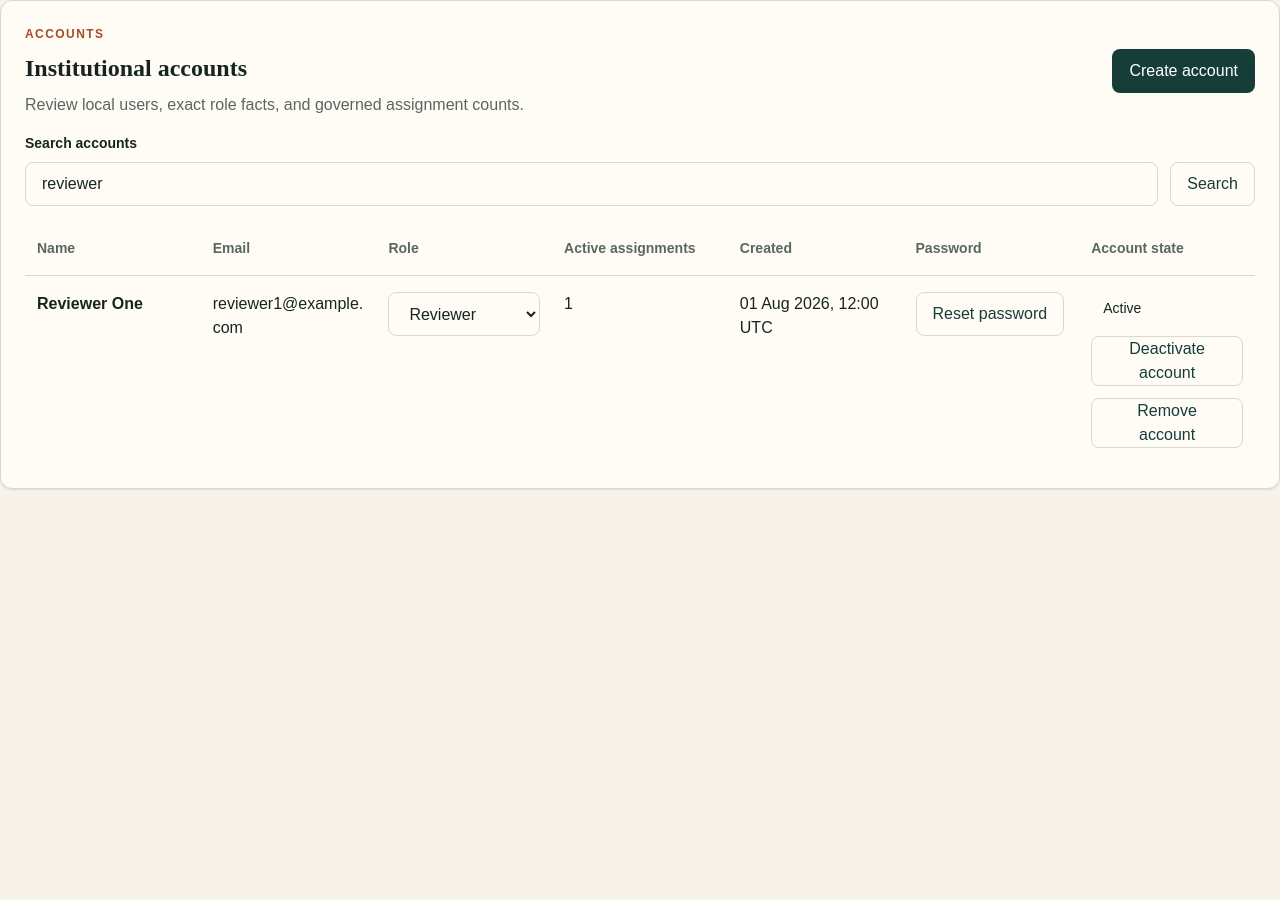
Test: AccountsSection › sizes the create dialog to its content like the compact casefile modals
Step 1. Click the button "Create account" → (1184, 71), box [1112,49,1255,93]
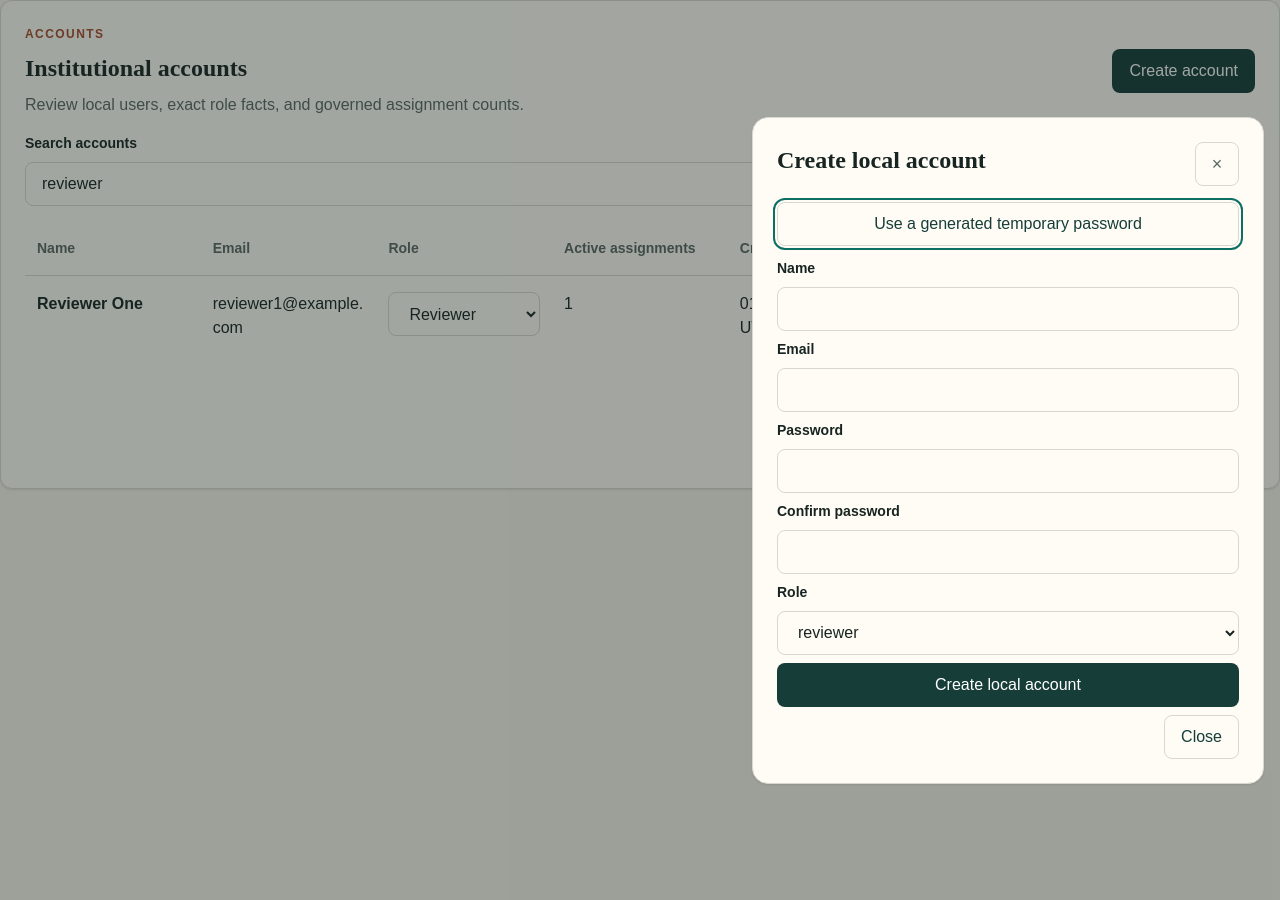
Check: the password field labelled "Confirm password" is shown, box [777,530,1239,574]
